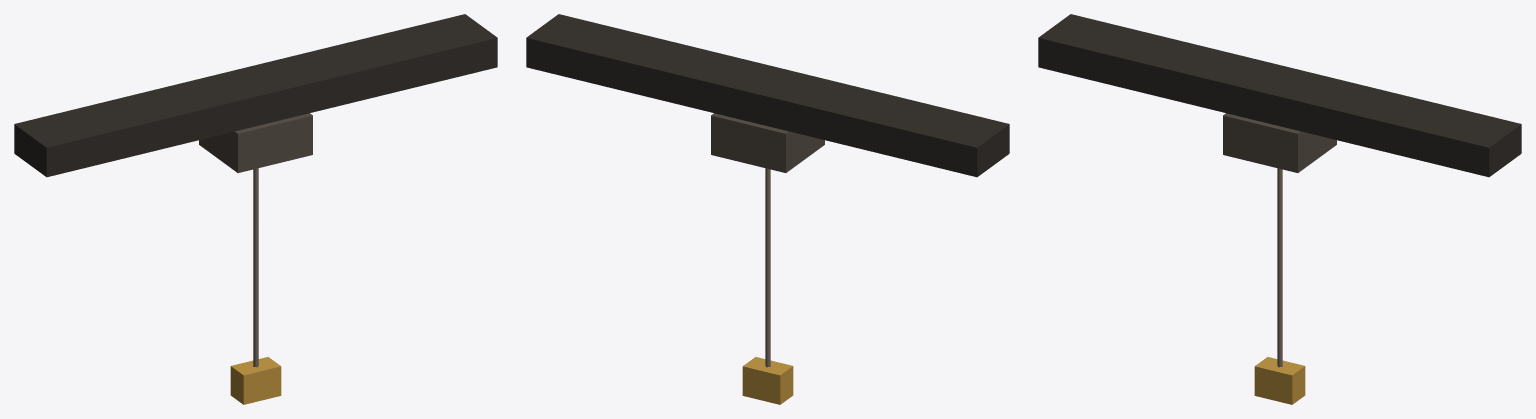
The model's file is work_hoist.glb.
The picture shows the model from 3 angles, left to right: view 1: azimuth 30°, elevation 25°; view 2: azimuth 150°, elevation 25°; view 3: azimuth 330°, elevation 25°; orthographic projection.
Visible parts, largest first — view 1: sw5e_int_work_hoist; view 2: sw5e_int_work_hoist; view 3: sw5e_int_work_hoist.
Boxes of the visible parts, x1,y1,x2,y2 form: sw5e_int_work_hoist: (14, 14, 497, 404); sw5e_int_work_hoist: (526, 14, 1009, 404); sw5e_int_work_hoist: (1038, 14, 1521, 404).
Bounding box in the file's own units: 2.4 × 1.6 × 0.36.
